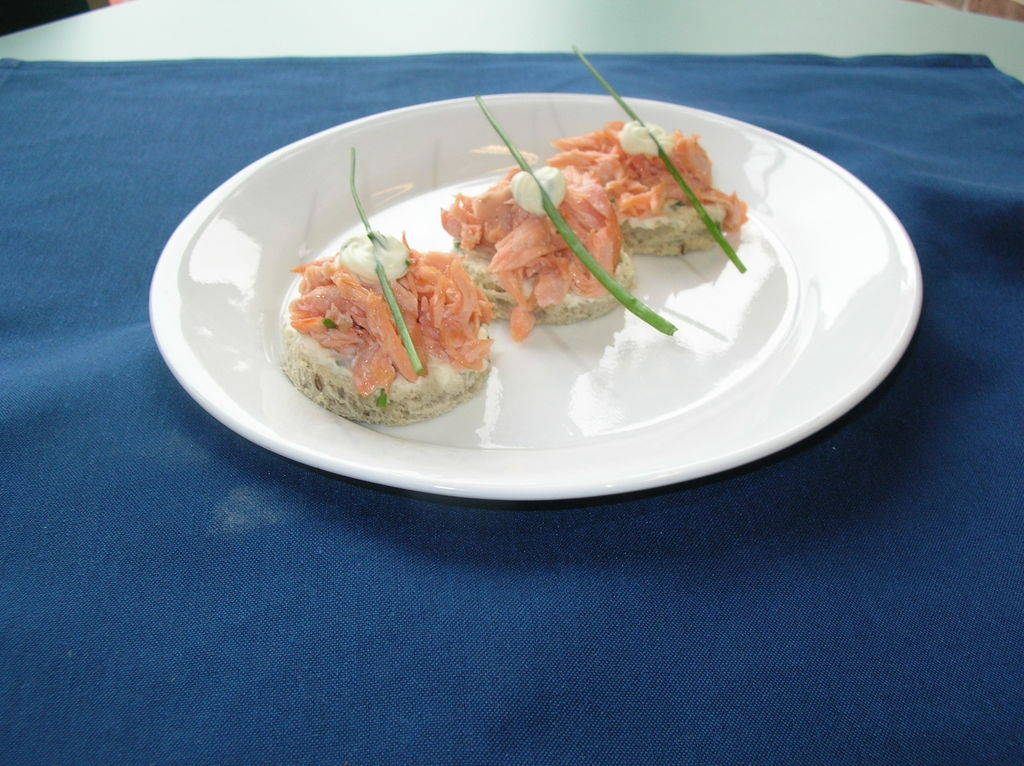plate: (119, 76, 958, 481)
